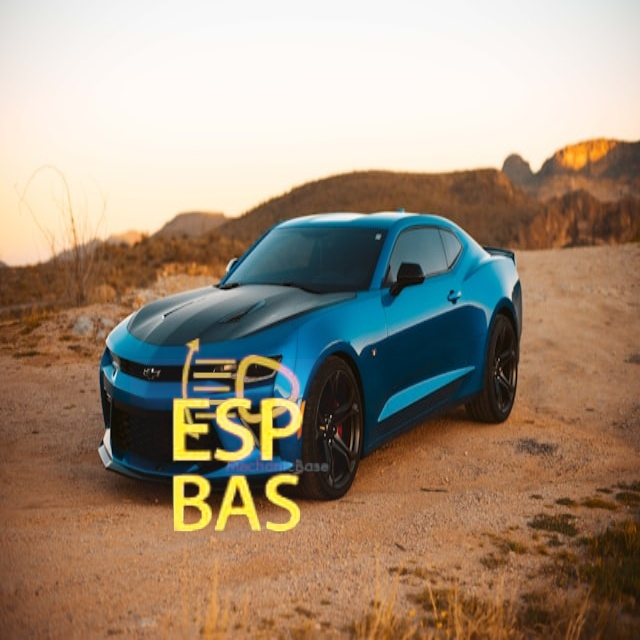symbol: (130, 359, 346, 575), (152, 297, 332, 477)
